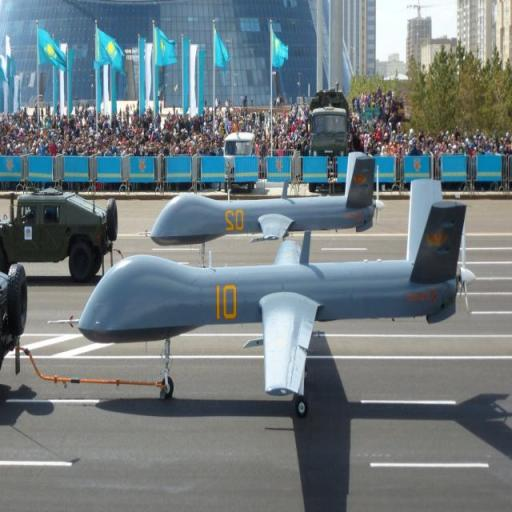uav: (58, 178, 472, 380)
